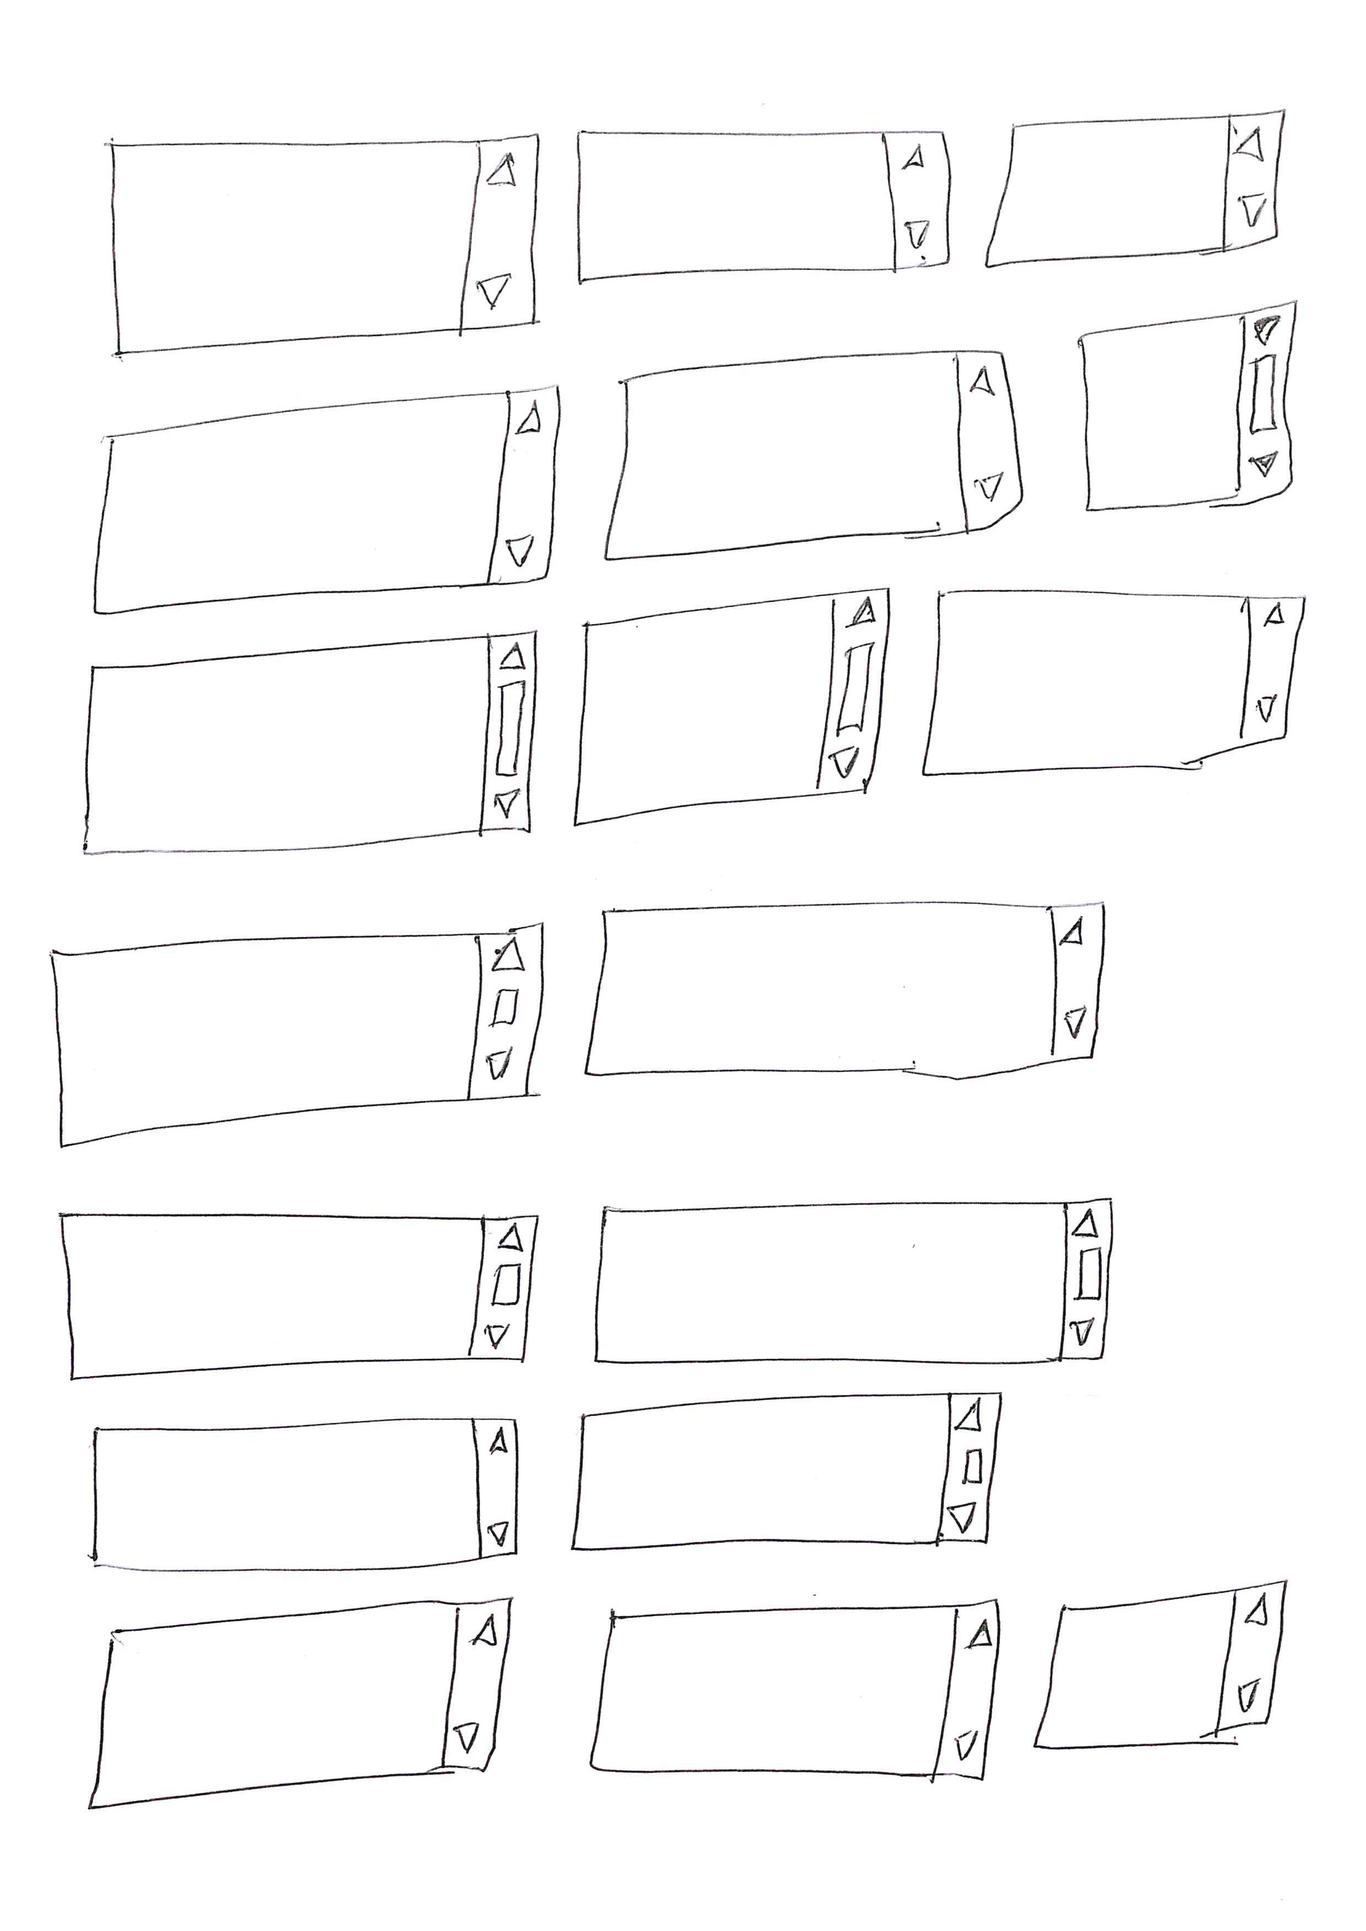Textarea: (47, 924, 551, 1152), (87, 381, 563, 620), (75, 624, 541, 859), (580, 895, 1109, 1084), (109, 132, 541, 358), (81, 1592, 516, 1811), (591, 1192, 1119, 1369), (602, 346, 1026, 566), (52, 1209, 544, 1381), (569, 584, 896, 829), (587, 1595, 1001, 1786), (917, 584, 1308, 779), (568, 1385, 1007, 1552), (89, 1412, 522, 1576), (574, 126, 956, 281), (977, 102, 1291, 269), (1072, 294, 1302, 515), (1032, 1575, 1291, 1751)
